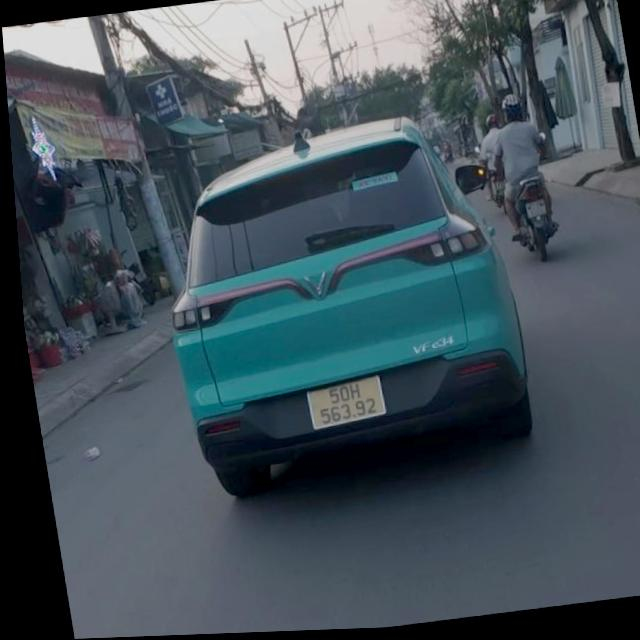car: (137, 106, 549, 507)
motorcycle: (505, 176, 567, 266)
plate: (301, 375, 396, 431), (521, 196, 551, 221)
